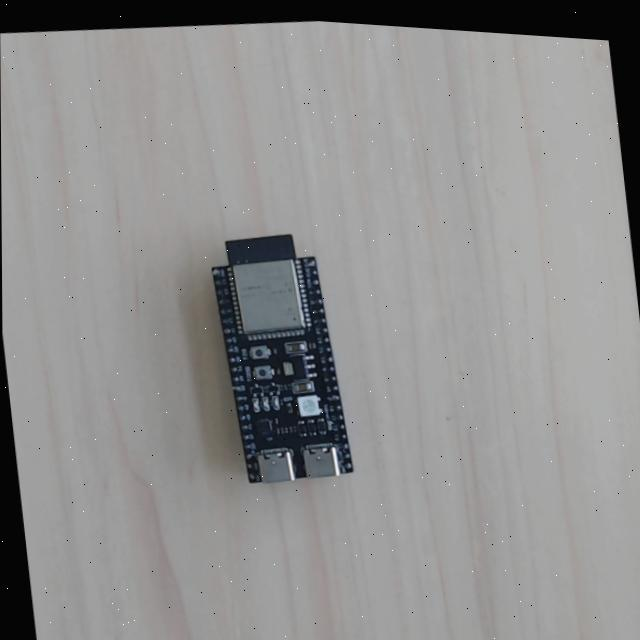ESP32S3-Devkit: (206, 225, 353, 490)
